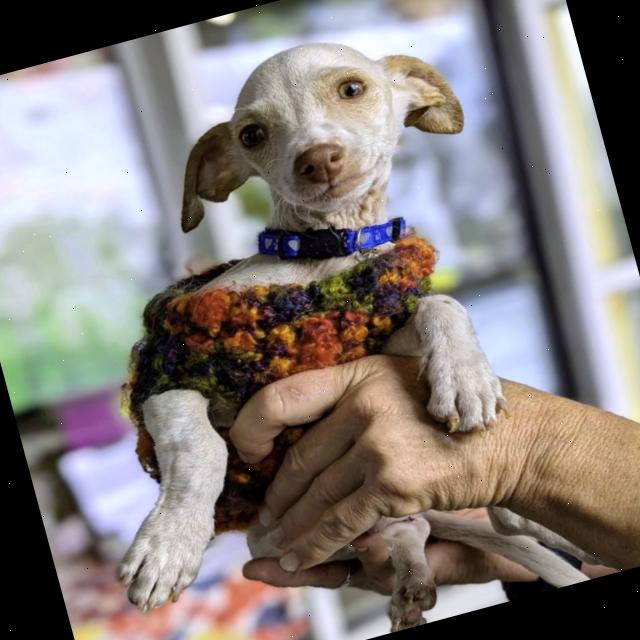chihuahua_dog: (131, 0, 499, 260)
